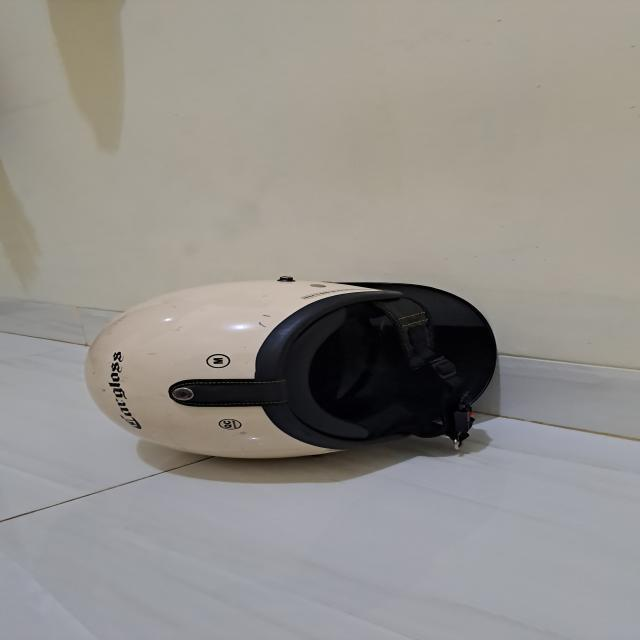Helm: (64, 254, 536, 472)
